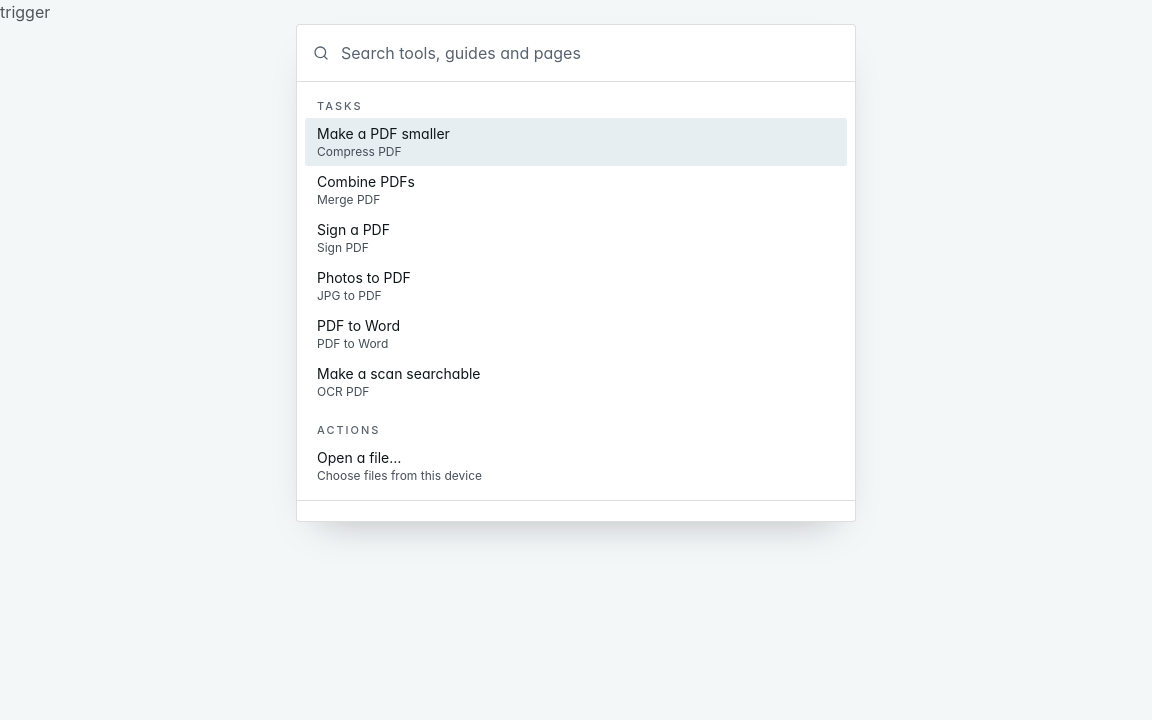
Test: the combobox contract › a format nothing here opens is answered, in words
Type "heic" into the dropdown named "Find a tool or guide" at (590, 53), box [341, 25, 839, 81]
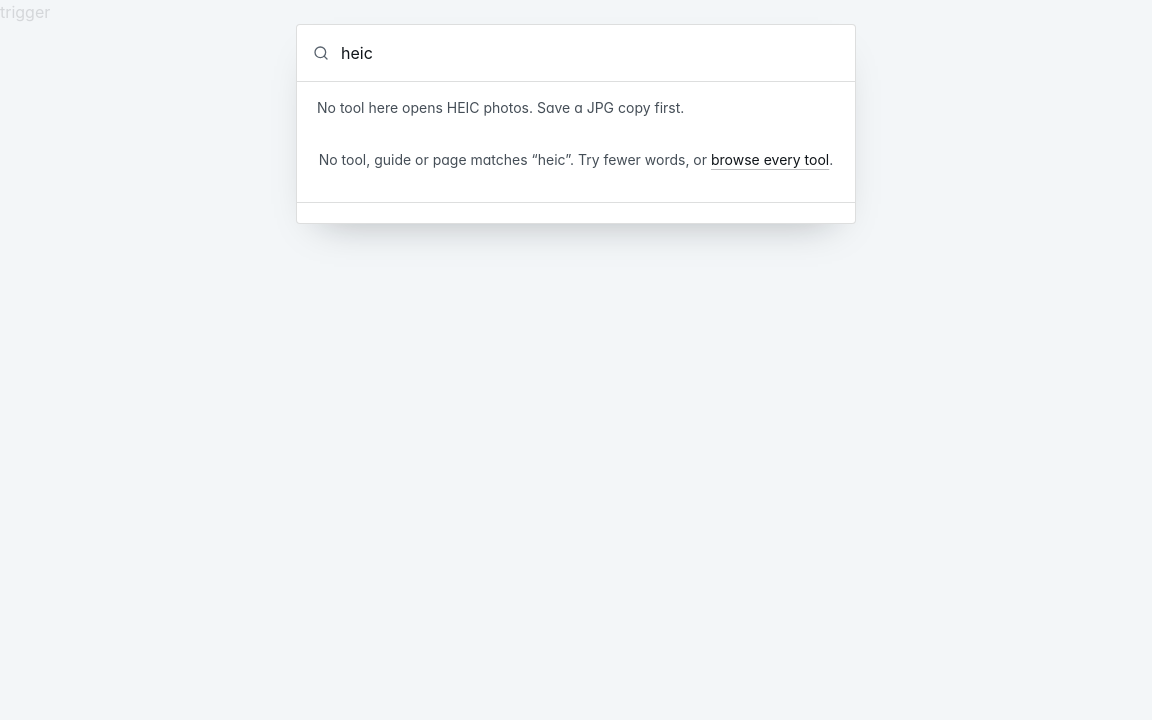
expect the text "No tool here opens HEIC photos. Save a JPG copy first." is shown: met, box [317, 99, 684, 116]
